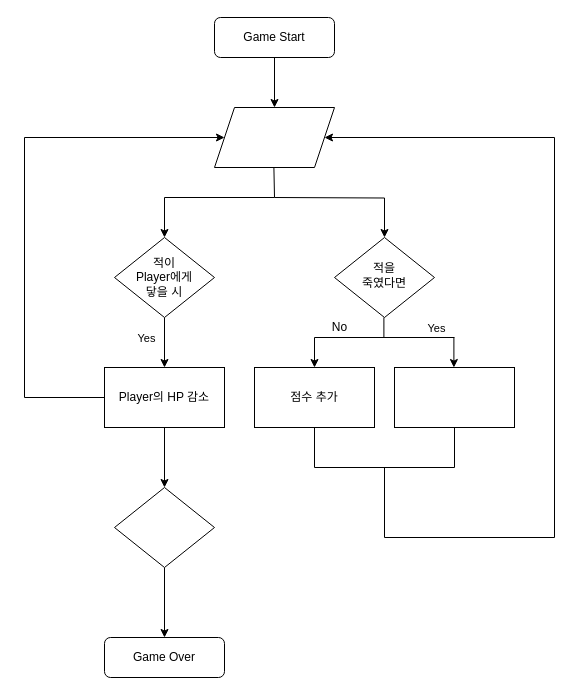
Image size: 580x695. Some labels were removed from this diagram. Here are the shapes that lost their labels. From the top down, the box of each, then its label:
(214, 106, 334, 168): 총알 발사
(394, 366, 514, 428): 점수 추가 안함
(114, 486, 214, 568): HP가 0이 되면
